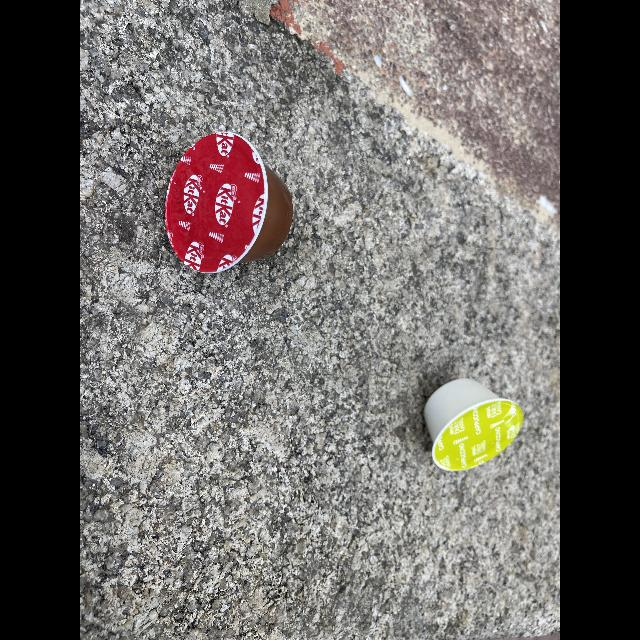intact_capsule: (162, 124, 298, 282), (414, 372, 532, 482)
